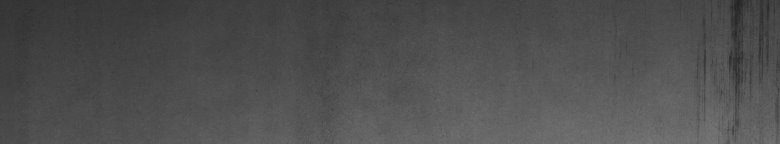ka: (701, 4, 775, 136)
